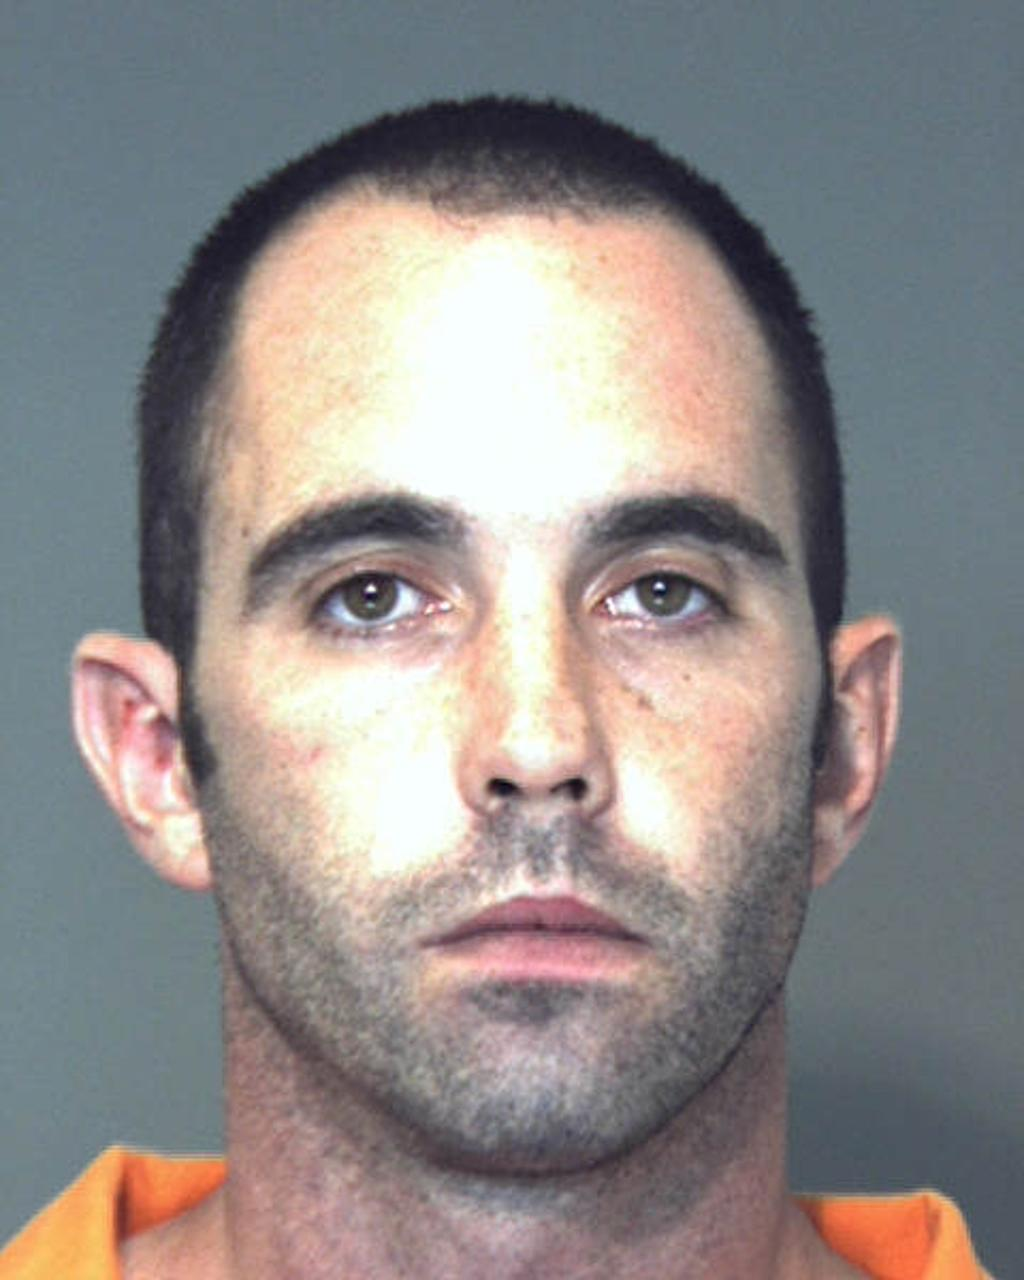face: (222, 232, 796, 1099)
